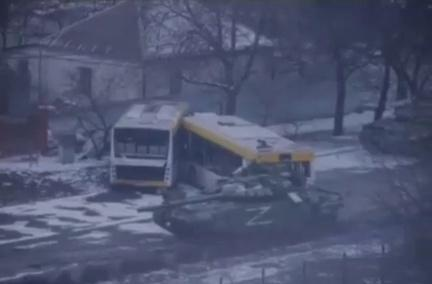tank: (136, 168, 346, 242), (359, 90, 432, 163)
